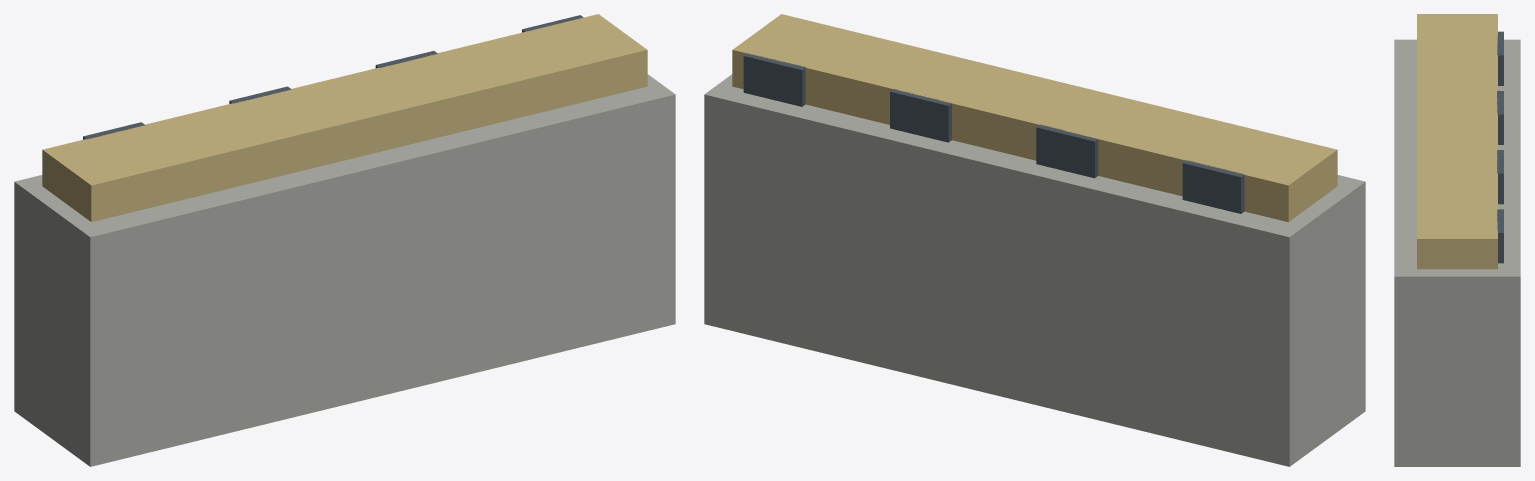
Rendered from road_barrier.glb.
3 renders of one model, left to right at view 1: azimuth 30°, elevation 25°; view 2: azimuth 150°, elevation 25°; view 3: azimuth 270°, elevation 25°, orthographic. The views are drawn at different scales.
Visible parts, largest first — view 1: body; view 2: body; view 3: body.
Boxes of the visible parts, bbox=[...] form: body: bbox=[14, 14, 675, 466]; body: bbox=[704, 14, 1365, 466]; body: bbox=[1394, 14, 1520, 466].
Size of the model in its own units: 2 by 0.875 by 0.45.
